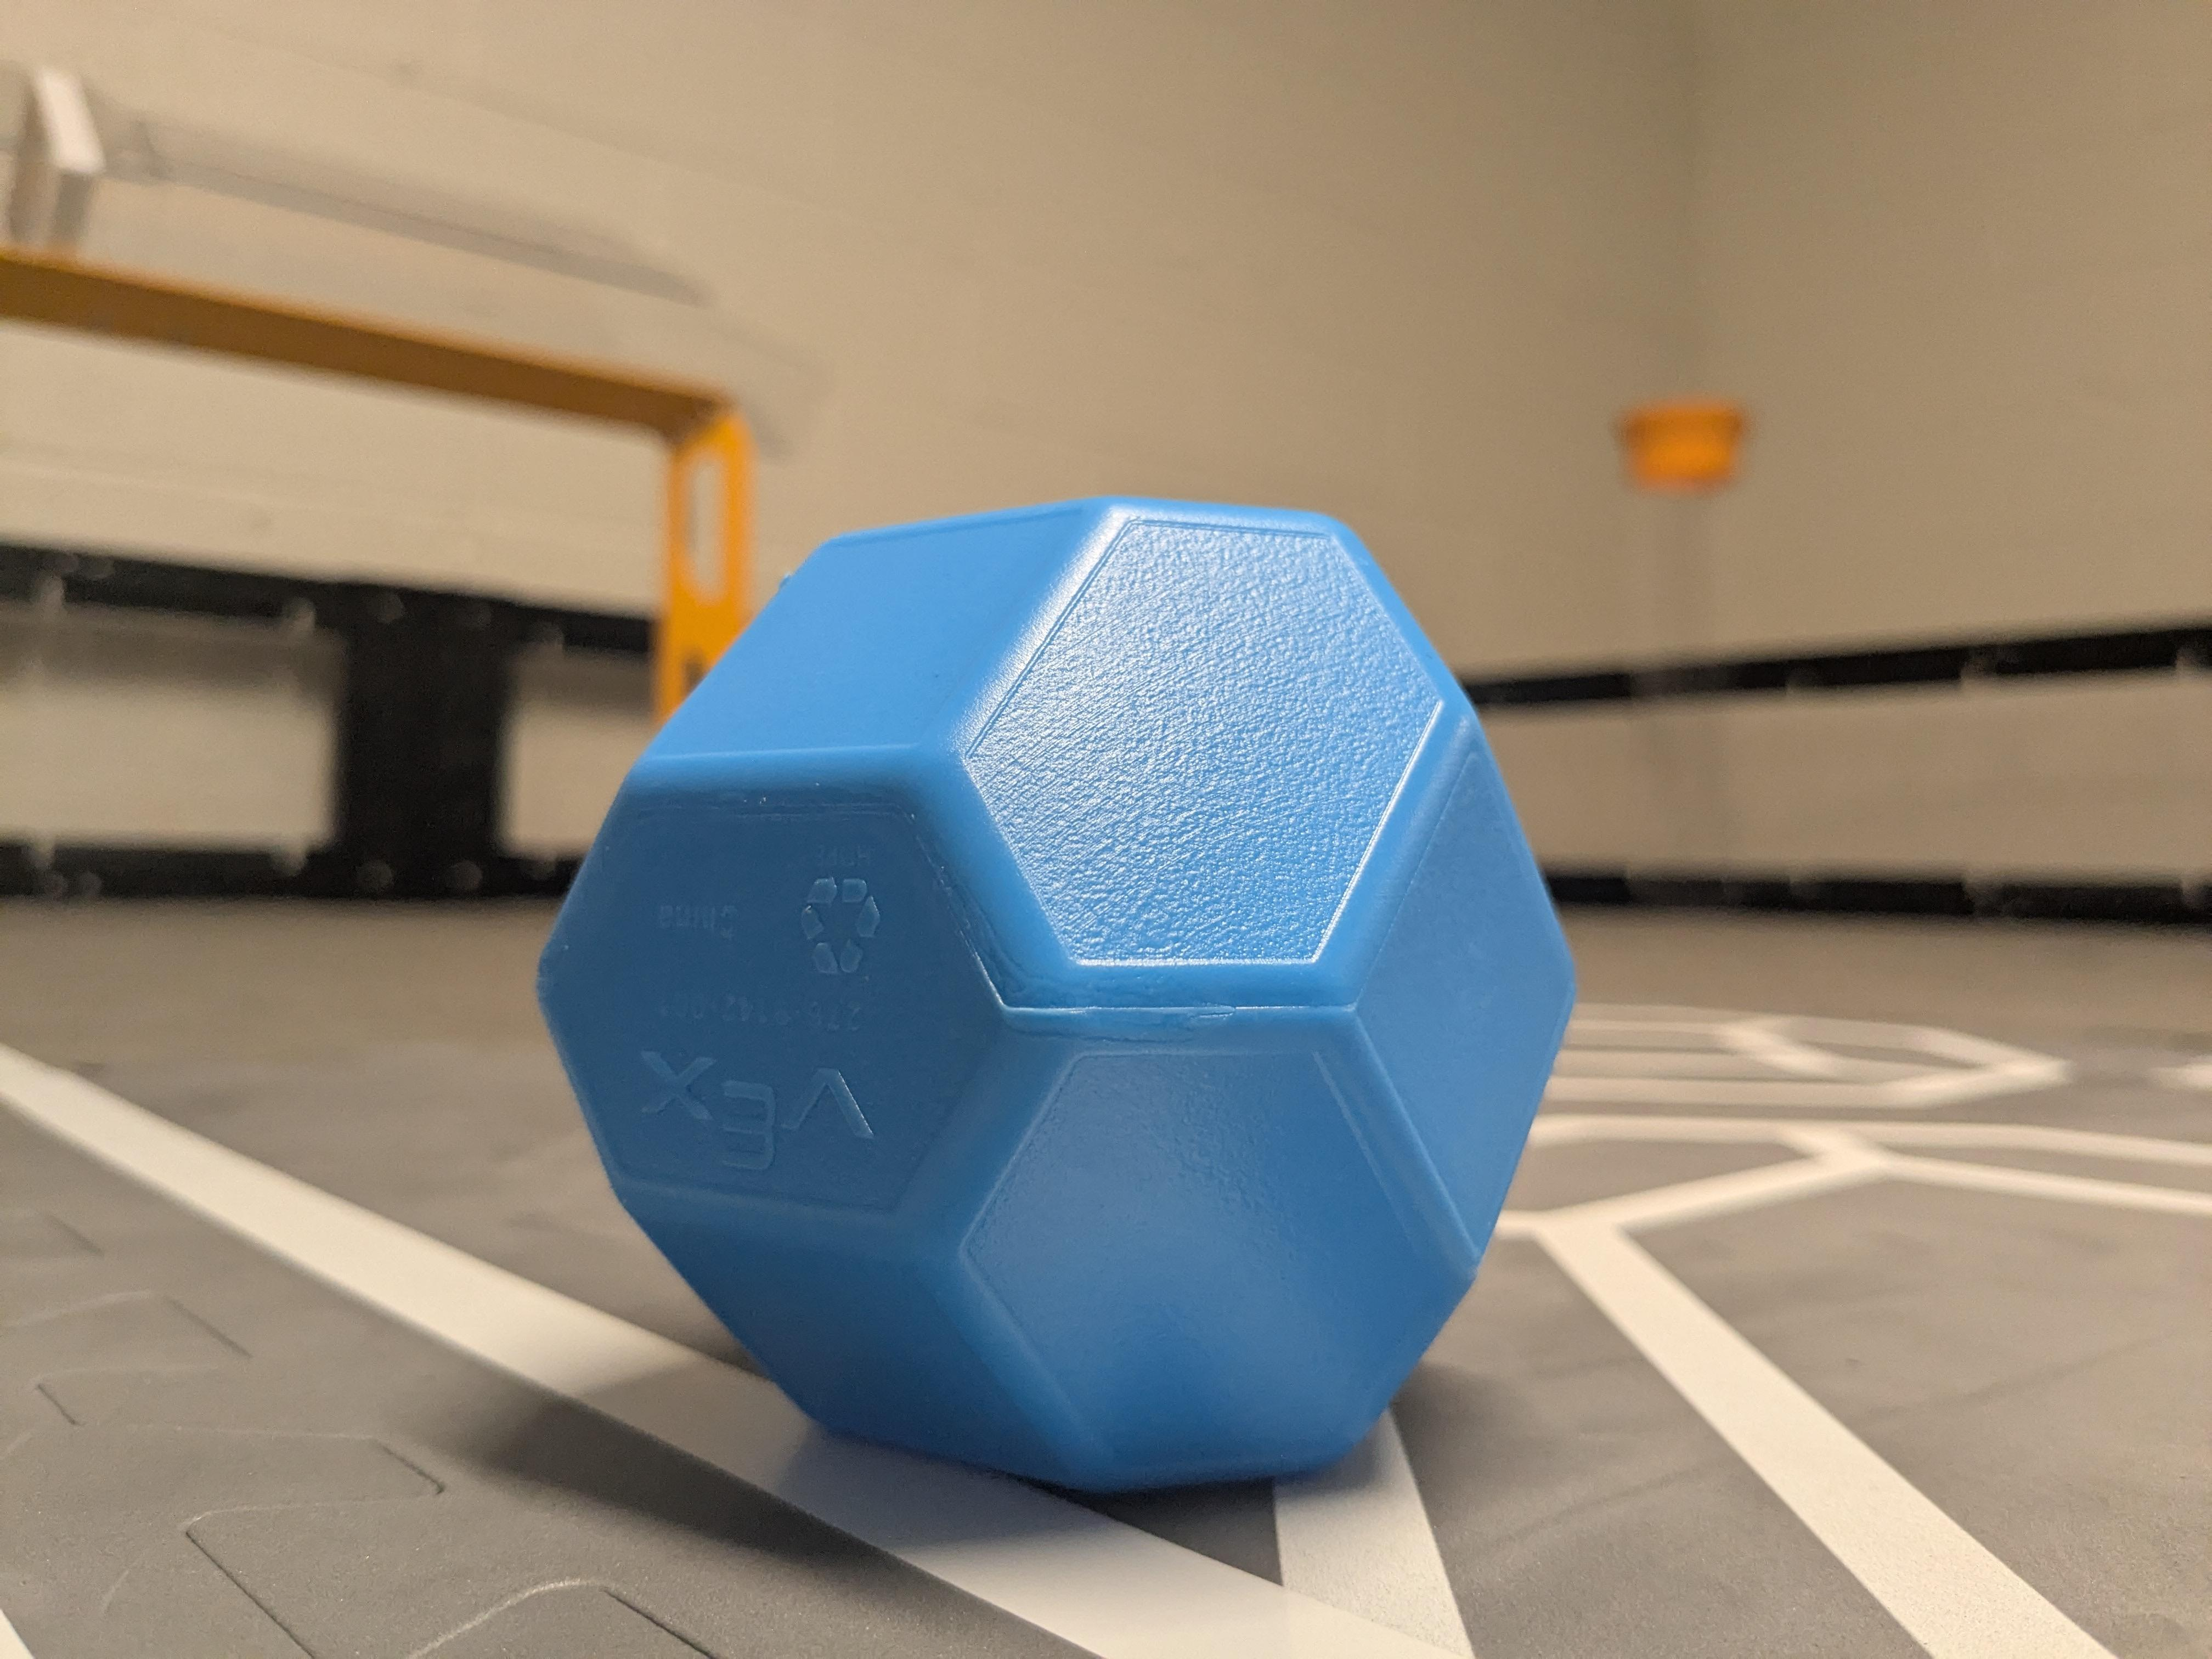Vex-Pieces-BLUE: (538, 498, 1573, 1490)
